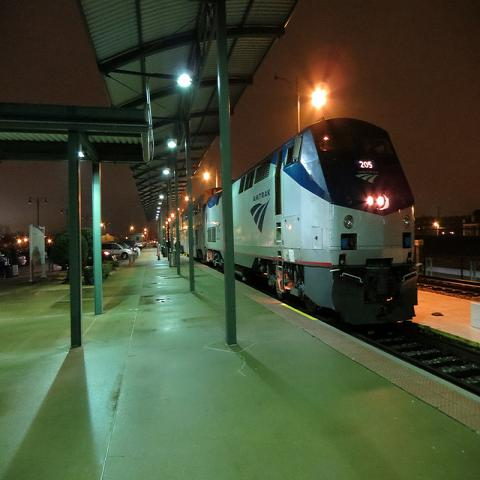car: (83, 252, 115, 284), (102, 243, 132, 260), (122, 242, 141, 261), (132, 241, 144, 248), (18, 256, 27, 264)
